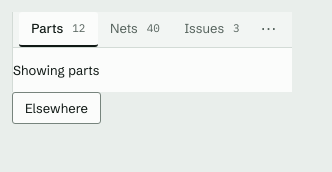
Scenario: OverflowTabs › chooses a hidden tab from the ⋯ menu, closes the menu and shows the tab
Click the button named "more tabs" at {"x": 269, "y": 30}, box [252,12,286,47]
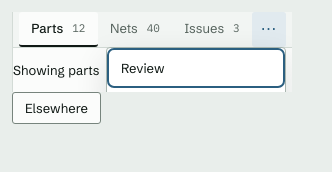
Click the menu item "Review" at {"x": 196, "y": 68}, box [111,52,281,84]
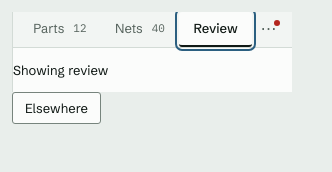
expect the text "Showing review" is shown: met, box [13,62,108,78]
expect the menu with class "tabs-menu" is gone: met
